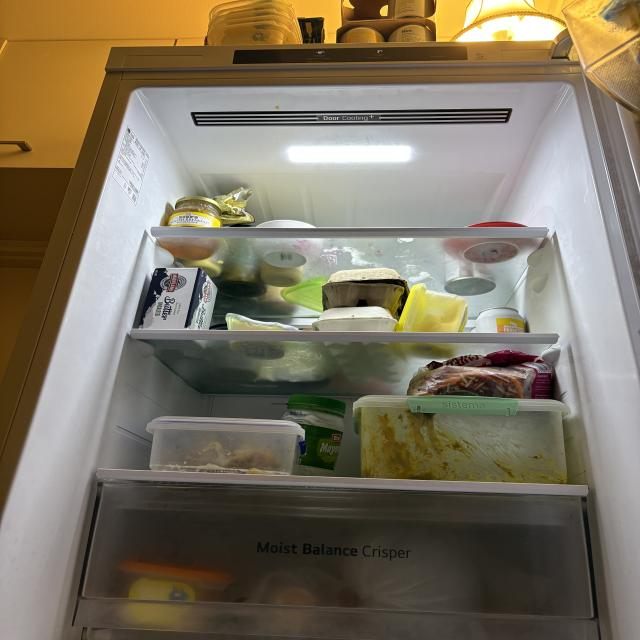Bowl: (245, 218, 329, 274)
Eggs: (322, 268, 410, 334)
Energy drink: (326, 0, 438, 49), (472, 302, 532, 339)
Jam: (160, 187, 220, 249)
Lamp: (465, 1, 571, 58)
Pie: (126, 262, 222, 335)
Plastic bottle: (282, 388, 347, 478)
PlasticBox: (356, 393, 576, 484), (140, 413, 311, 491), (118, 557, 233, 633), (191, 3, 302, 53), (400, 278, 468, 334)
Plate: (452, 222, 540, 260)
Salad: (396, 345, 569, 394)
